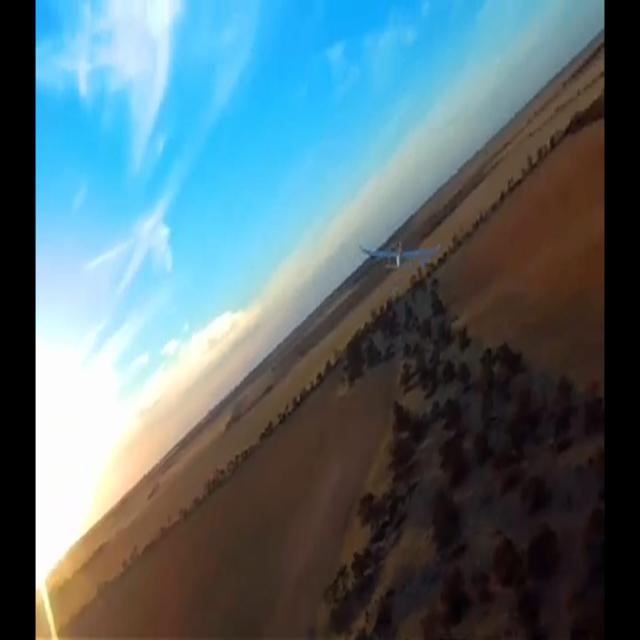iha: (390, 236, 410, 273)
